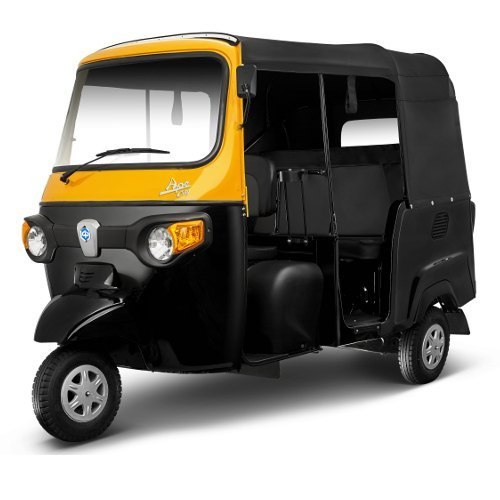rickshaw: (17, 24, 487, 449)
